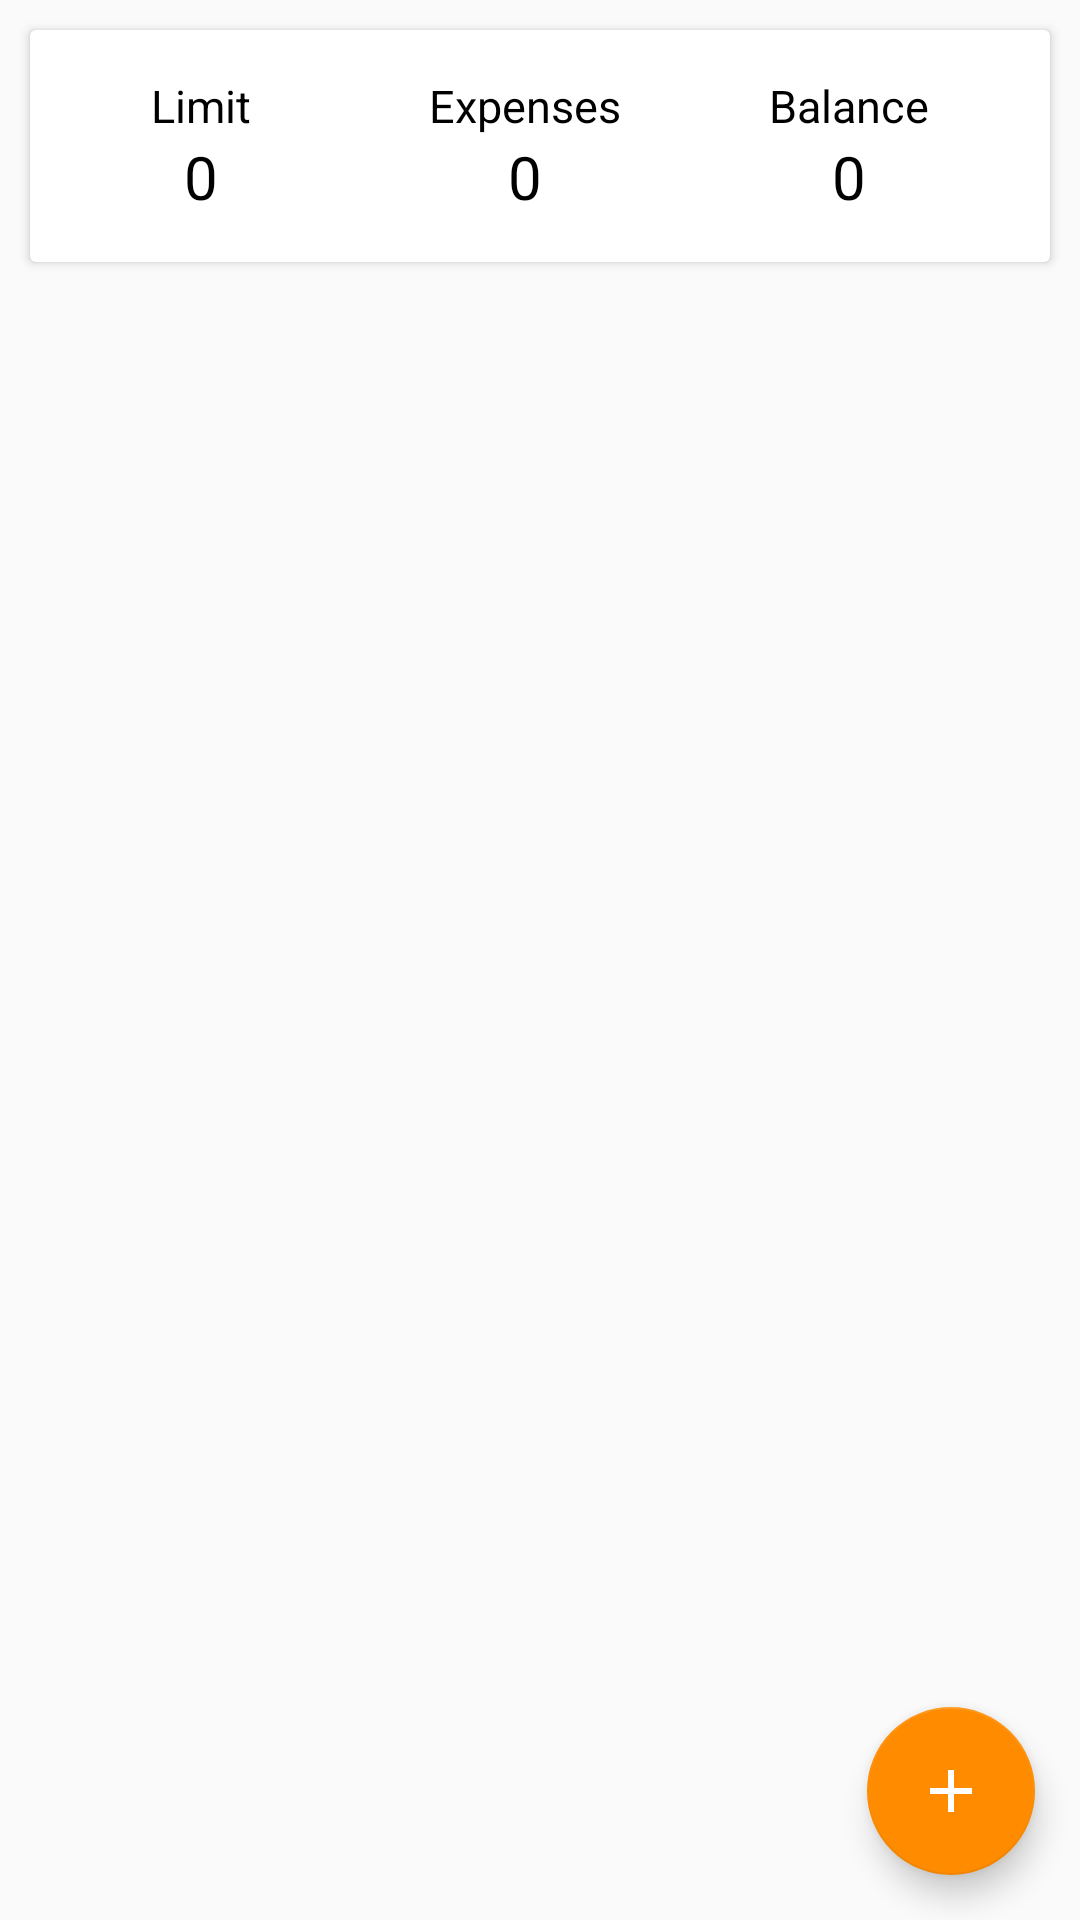

Named icons in this screenshot (1080px x 1920px) and their centers, [x,y]:
add: [951,1791]
